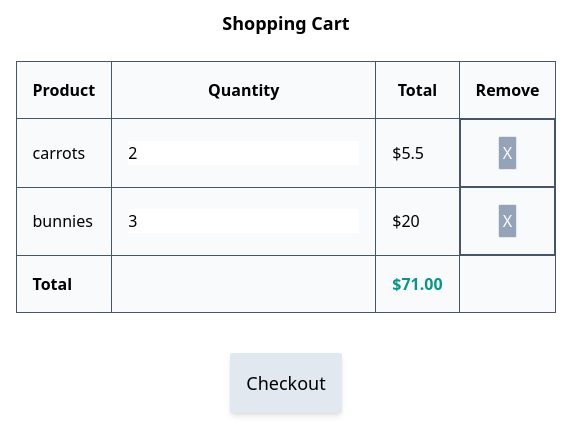
it: should clear items after checkout
This screenshot has width=573, height=434.
Expected: the text "$71.00" is shown, [376, 256, 459, 312]
Expected: the number of rows is 4, [16, 62, 556, 118]; [16, 118, 556, 187]; [16, 187, 556, 256]; [16, 256, 556, 312]
Click the button "Checkout" at (286, 383), box [230, 353, 342, 413]
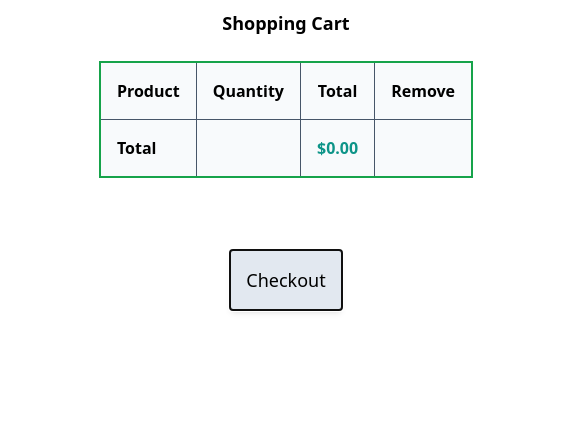
Expected: the number of rows is 2, [100, 62, 472, 120]; [100, 120, 472, 177]
Result: the text "$0.00" is shown at [300, 120, 375, 177]
